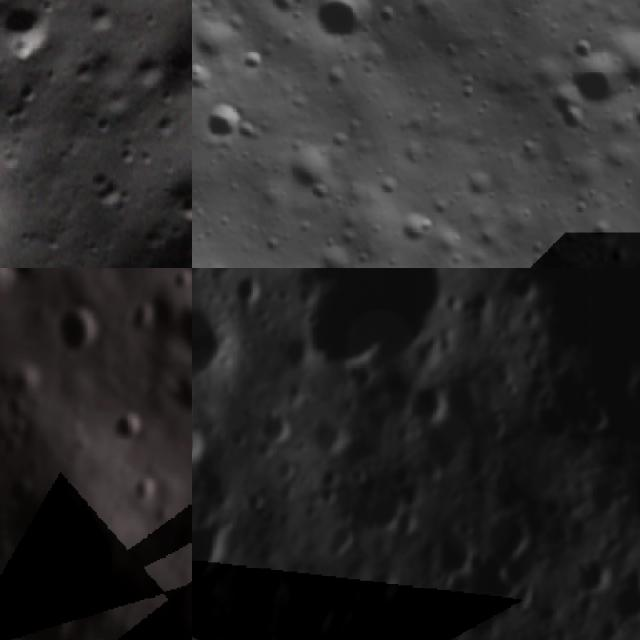crater: (304, 268, 464, 381), (545, 31, 640, 130), (266, 123, 350, 207), (284, 0, 384, 63), (192, 77, 264, 159), (596, 14, 640, 107), (0, 0, 61, 65), (385, 196, 445, 256), (483, 500, 532, 562), (192, 295, 226, 370), (56, 307, 96, 358), (250, 0, 310, 32), (407, 385, 450, 429), (433, 521, 470, 568), (168, 181, 192, 235), (314, 418, 351, 453), (259, 411, 298, 442), (615, 358, 640, 404), (116, 402, 147, 437), (77, 250, 132, 268), (0, 268, 33, 296), (133, 472, 160, 505), (626, 94, 640, 149), (192, 414, 204, 462), (623, 203, 640, 232), (9, 395, 31, 417)
